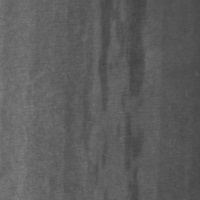inclusion: (100, 0, 147, 199), (115, 96, 145, 199)
